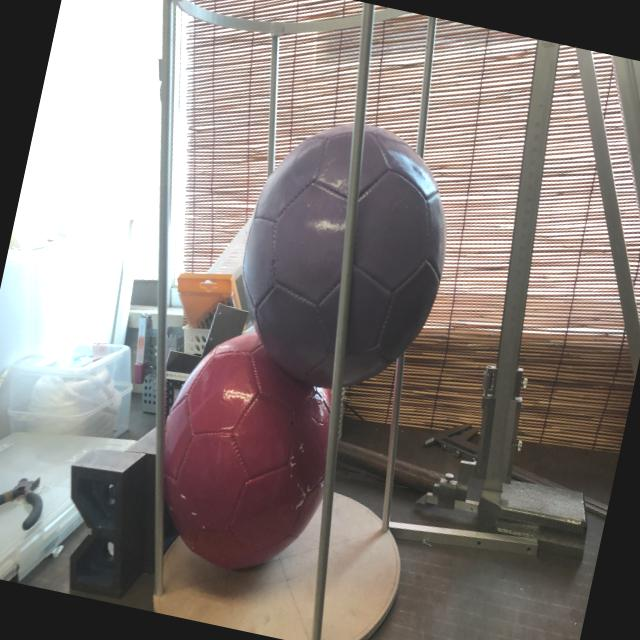purple_ball: (220, 108, 468, 404)
red_ball: (138, 319, 358, 589)
